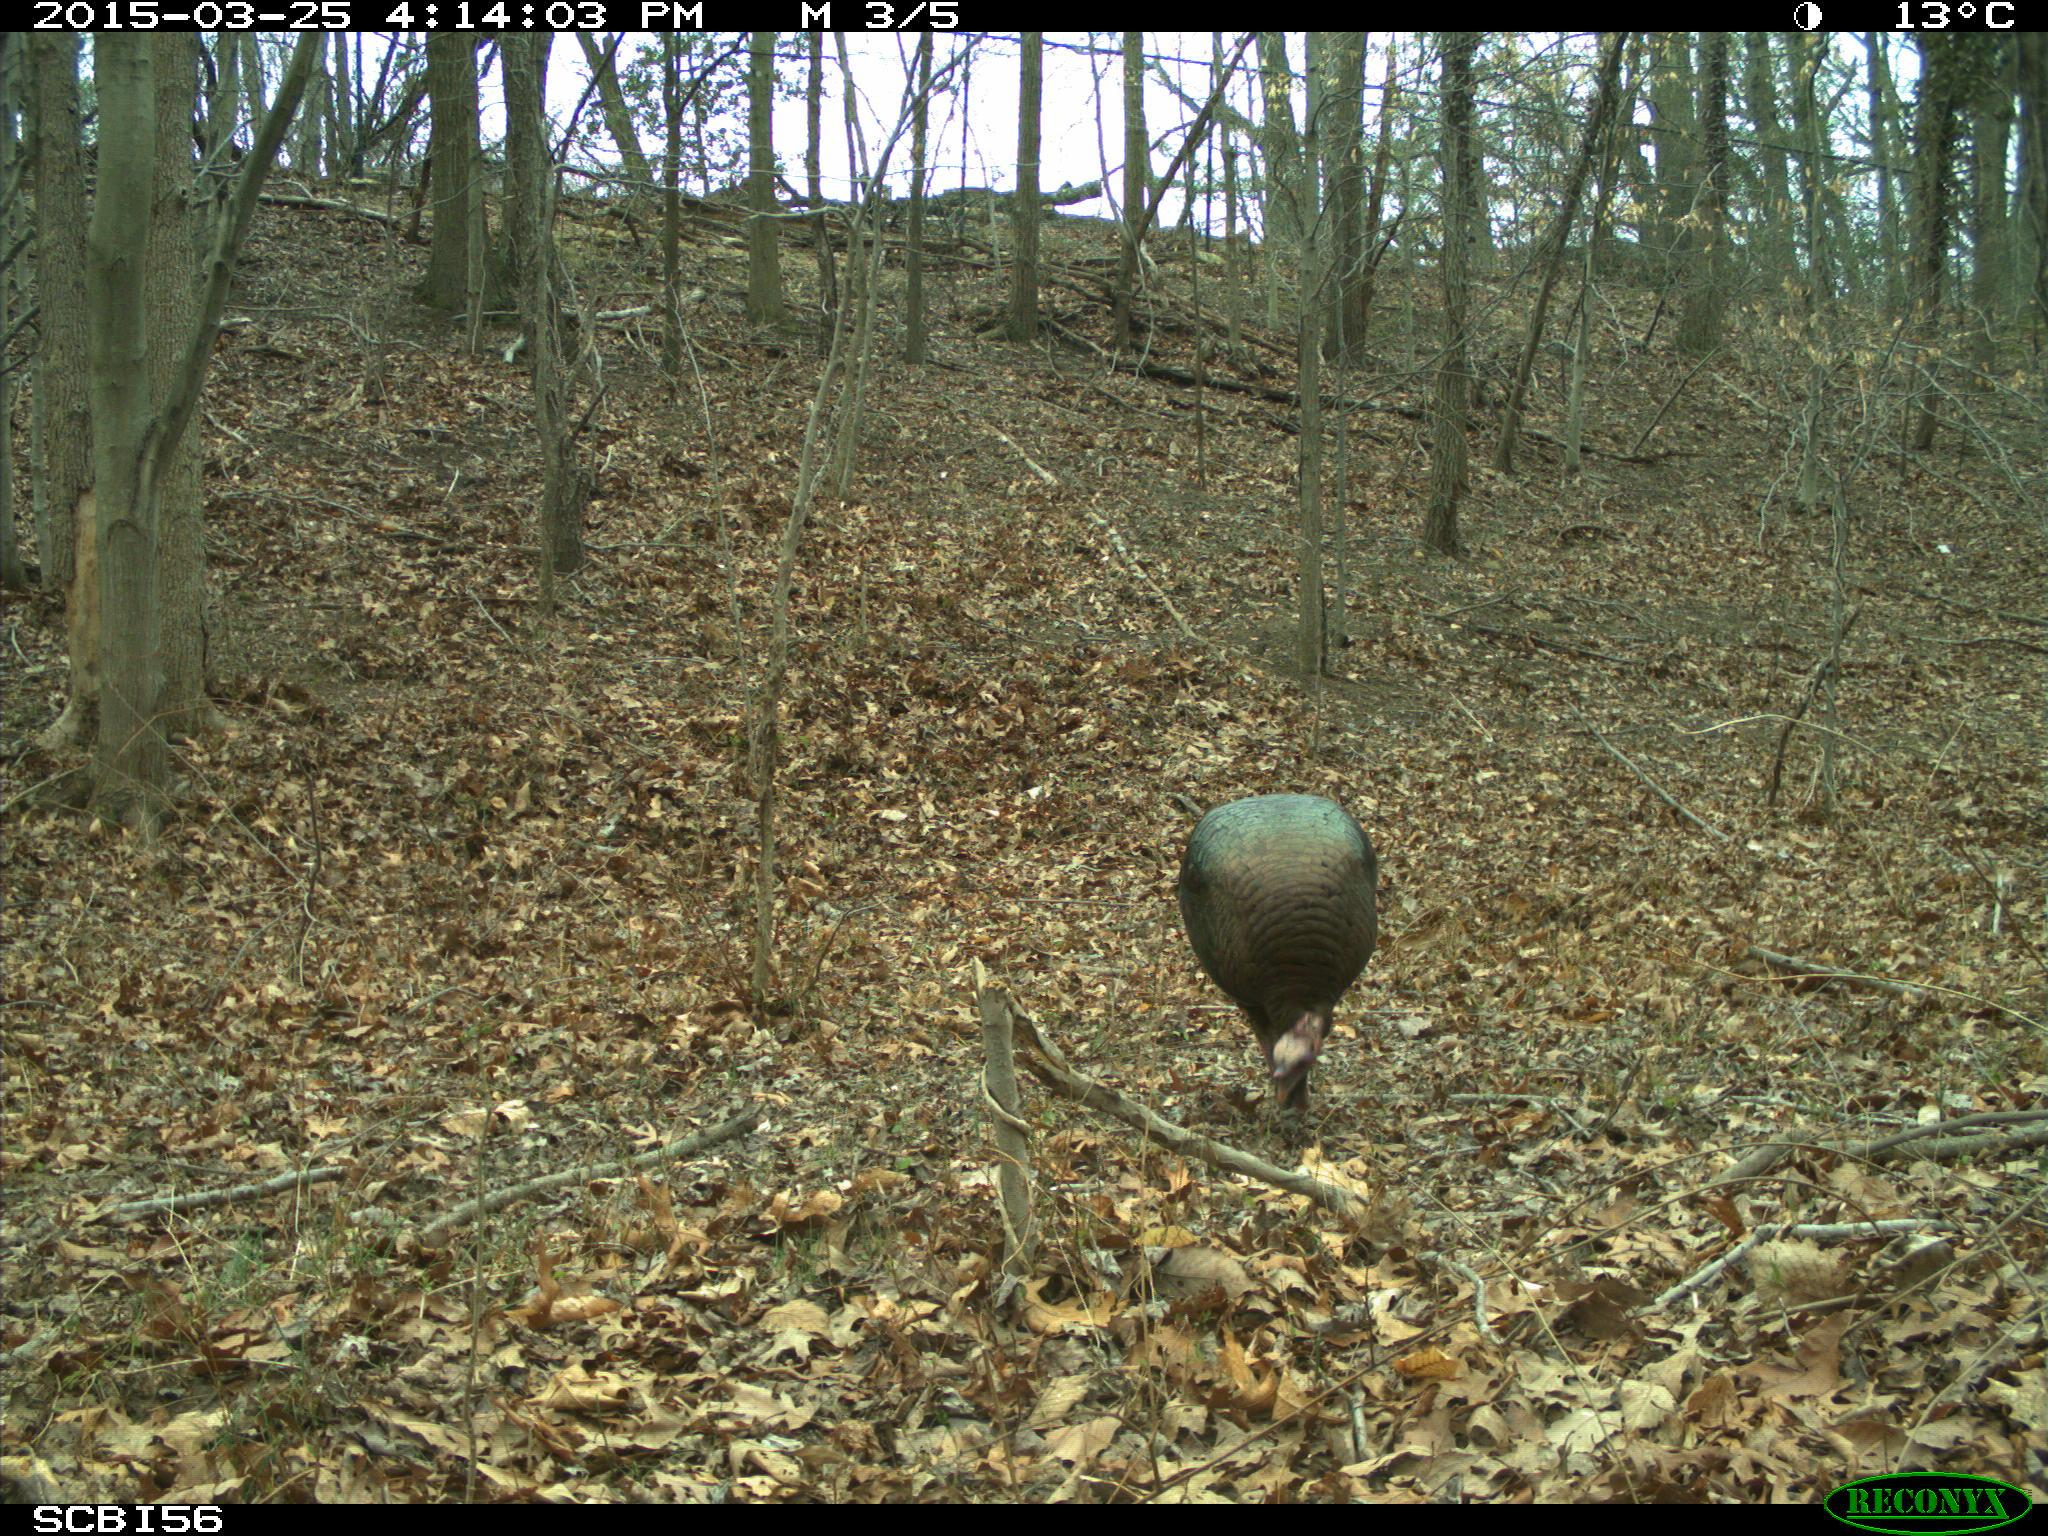Animal: (1174, 791, 1380, 1139)
